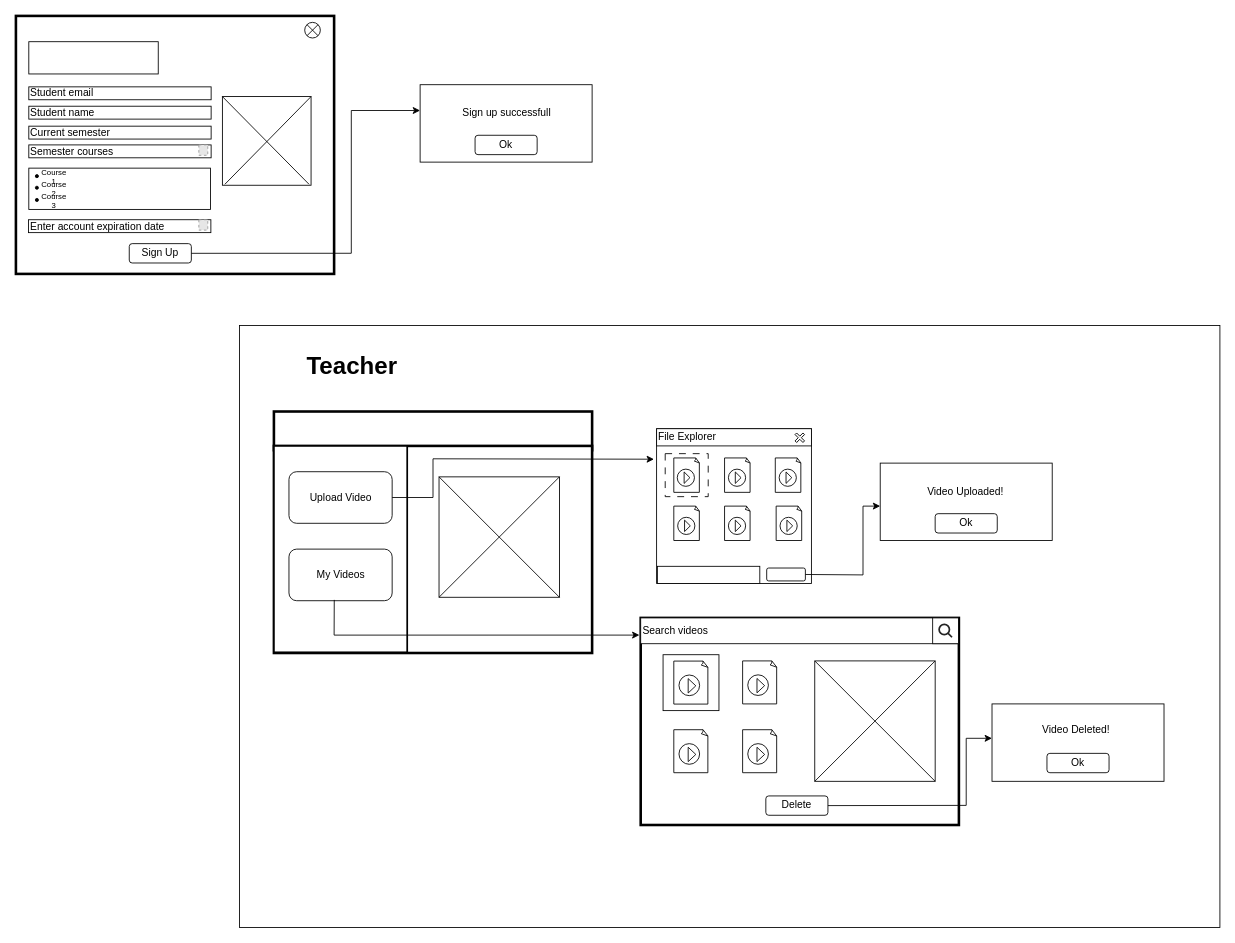
This 1235x943 diagram has some shape labels left out. Grey dashed boxes stand in for pictures. The centre of each missing label's shape, as x and y in pixels:
Arrange AR field trip for students: pixel 432 430
Assign Student: pixel 93 57
File Name: pixel 708 574
Upload: pixel 785 574
